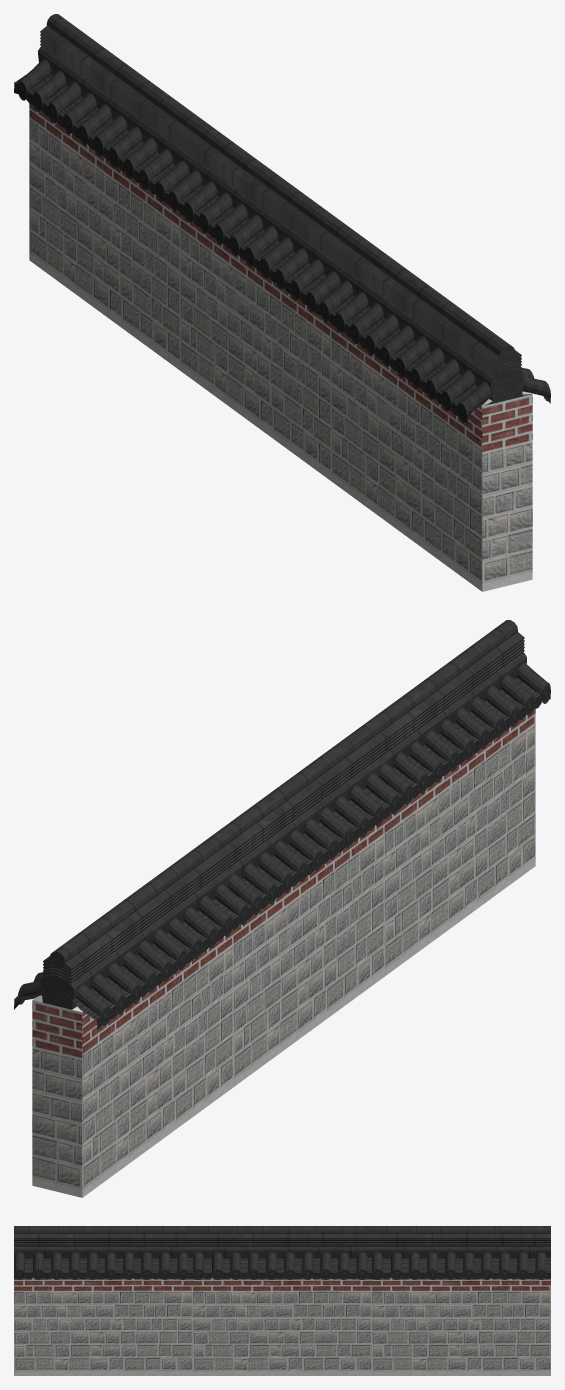
Rendered from SM_DG_HG_StoneWallH_Splines_10.fbx.
3 views of the same model, one above another, from view 1: azimuth 30°, elevation 25°; view 2: azimuth 150°, elevation 25°; view 3: azimuth 270°, elevation 25° (orthographic). The views are drawn at different scales.
Visible parts, largest first — view 1: SM_DG_HG_StoneWallH_Splines_10; view 2: SM_DG_HG_StoneWallH_Splines_10; view 3: SM_DG_HG_StoneWallH_Splines_10.
Part boxes in pixels (x1=…): SM_DG_HG_StoneWallH_Splines_10: x1=14, y1=14, x2=550, y2=591; SM_DG_HG_StoneWallH_Splines_10: x1=14, y1=620, x2=550, y2=1197; SM_DG_HG_StoneWallH_Splines_10: x1=14, y1=1226, x2=550, y2=1375.
Size of the model in its own units: 65.49 by 610 by 178.
